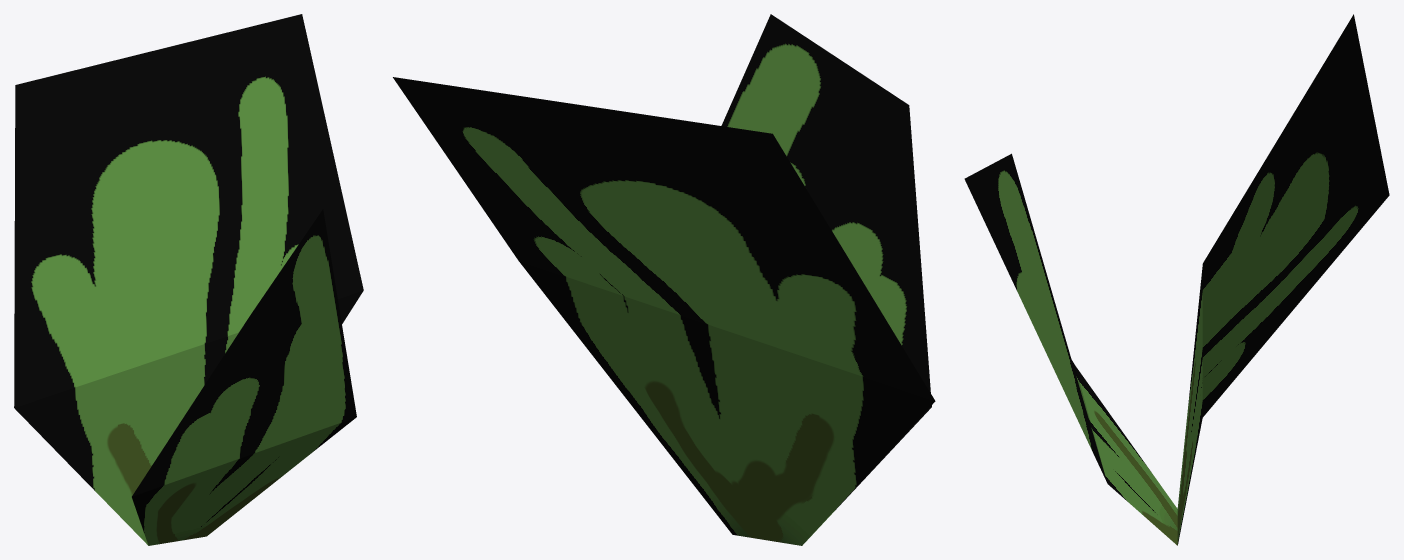
The model's file is pasto.glb.
The picture shows the model from 3 angles, left to right: view 1: azimuth 30°, elevation 25°; view 2: azimuth 150°, elevation 25°; view 3: azimuth 270°, elevation 25°; orthographic projection. The views are drawn at different scales.
Parts seen in each view (by area): view 1: Plane; view 2: Plane; view 3: Plane.
Boxes of the visible parts, left/top/right/bottom form: Plane: left=14, top=14, right=363, bottom=545; Plane: left=393, top=14, right=935, bottom=545; Plane: left=964, top=14, right=1389, bottom=545.
Size of the model in its own units: 3.3 by 3.58 by 2.93.
Materials: 1 (1 with a texture image).
